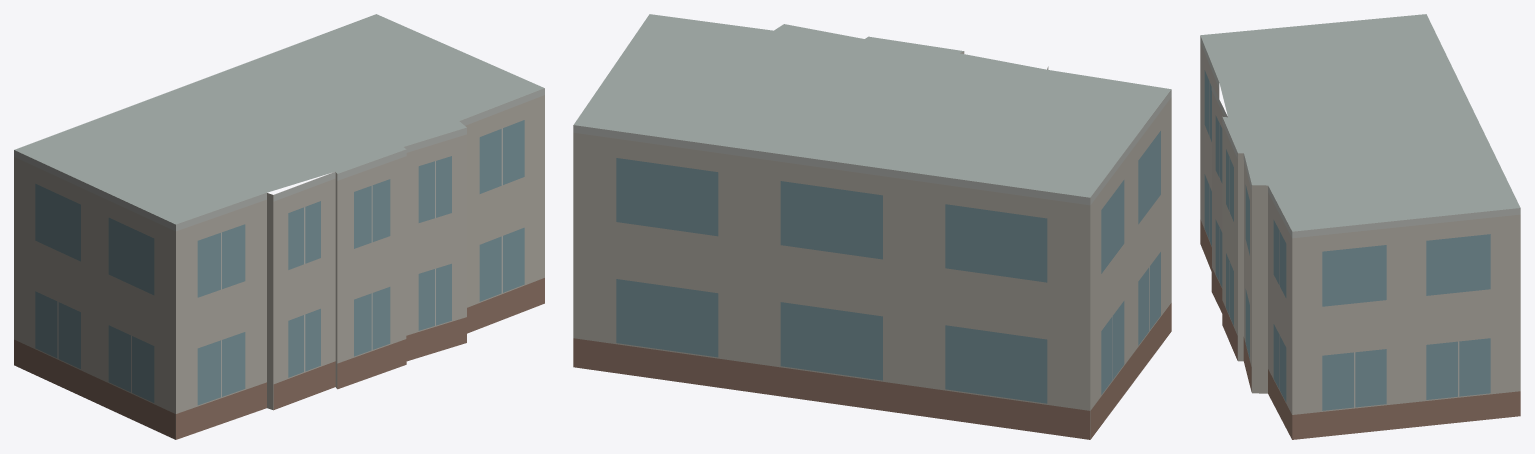
The model's file is survey-upis-32619555.glb.
3 renders of one model, left to right at view 1: azimuth 30°, elevation 25°; view 2: azimuth 150°, elevation 25°; view 3: azimuth 270°, elevation 25°, orthographic. The views are drawn at different scales.
Visible parts, largest first — view 1: survey-upis-32619555.tmp; view 2: survey-upis-32619555.tmp; view 3: survey-upis-32619555.tmp.
Part boxes in pixels (x1,y1,x2,y2): survey-upis-32619555.tmp: [14, 14, 544, 439]; survey-upis-32619555.tmp: [573, 14, 1171, 439]; survey-upis-32619555.tmp: [1200, 14, 1520, 439].
Bounding box in the file's own units: 17.28 × 7.7 × 10.75.
